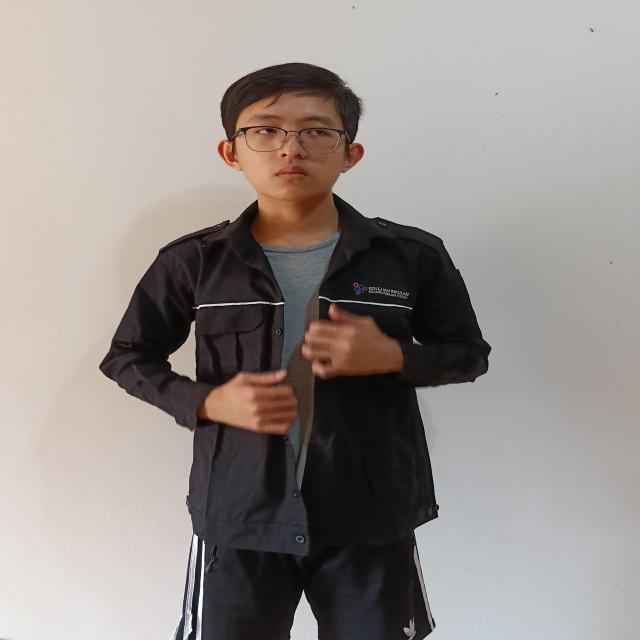person_with_labcoat: (100, 63, 490, 640)
